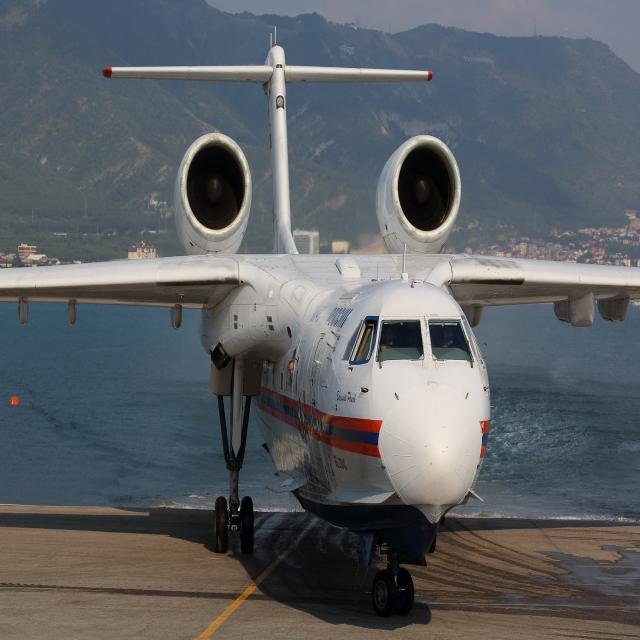MIL_Plane: (0, 0, 384, 361)
